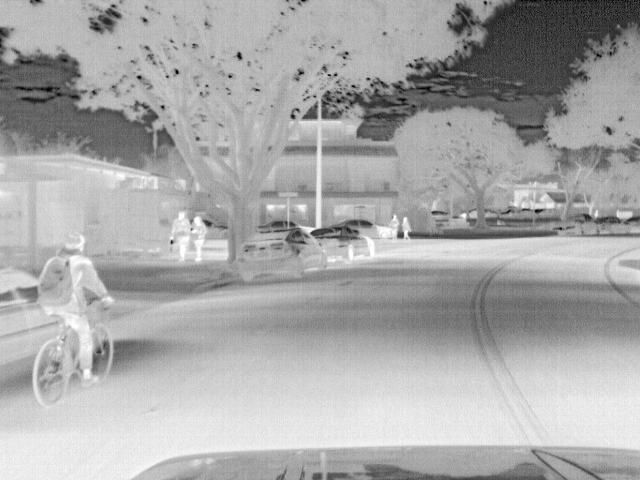car: (2, 266, 63, 382), (236, 222, 330, 286), (309, 225, 376, 261), (554, 213, 600, 237), (344, 218, 394, 240), (596, 213, 628, 234), (204, 221, 231, 240), (623, 214, 640, 235)
person: (36, 229, 117, 378), (169, 209, 193, 262), (192, 214, 208, 262), (399, 215, 414, 242)
